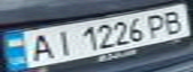1: (75, 22, 100, 52)
2: (93, 20, 115, 50), (112, 17, 133, 47)
6: (127, 15, 148, 43)
A: (21, 30, 57, 62)
B: (160, 7, 190, 35)
I: (45, 27, 75, 57)
P: (142, 11, 172, 39)
